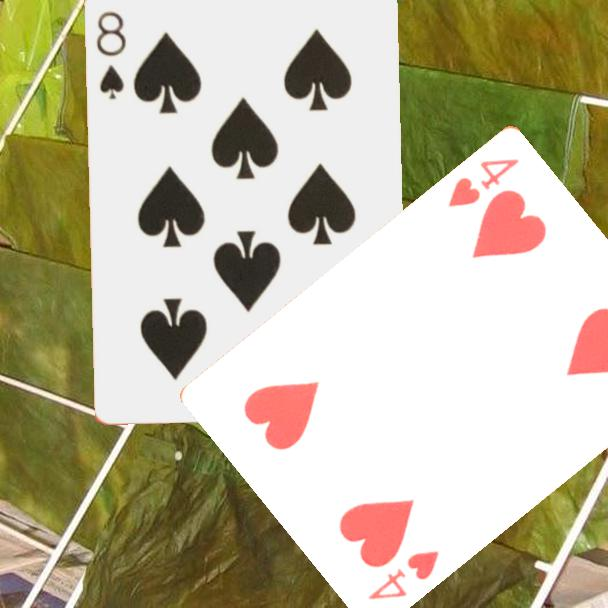h04: (364, 546, 442, 603), (444, 154, 522, 210)
s08: (92, 7, 128, 102)
